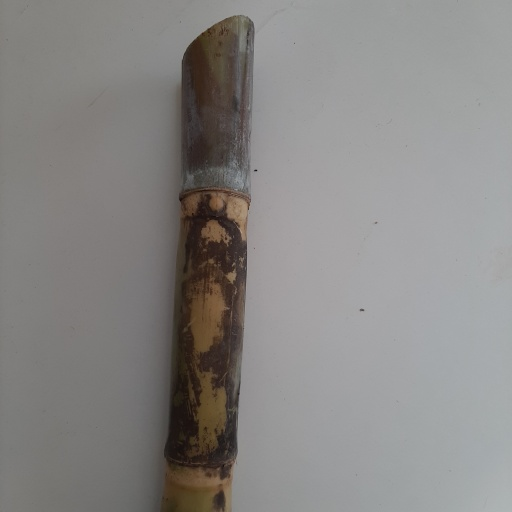Bud: (205, 192, 229, 216)
